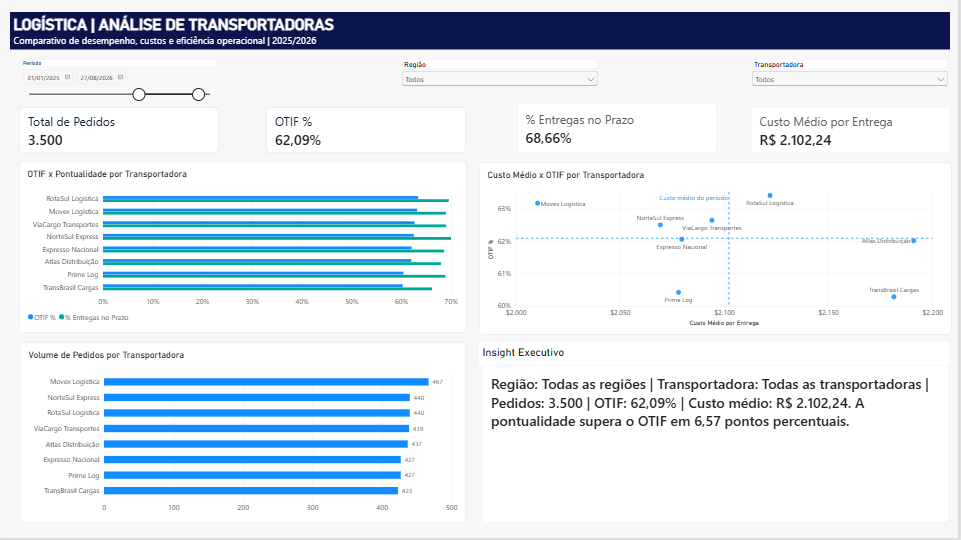

This screenshot's page, from the dashboard's own definition file:
{"tool":"powerbi","page":{"name":"Análise de Transportadoras","canvas":[1920,1080],"ordinal":2},"visuals":[{"type":"textbox","title":"LOGÍSTICA | ANÁLISE DE TRANSPORTADORAS","box":[23.3,28.3,1880,75],"z":0},{"type":"slicer","fields":{"Values":["DimCalendario.Data"]},"box":[42,124,400,84],"z":1000},{"type":"slicer","fields":{"Values":["Clientes.Regiao"]},"box":[804,124,400,60],"z":2000},{"type":"slicer","fields":{"Values":["Transportadoras.Transportadora"]},"box":[1504,124,400,150],"z":3000},{"type":"cardVisual","fields":{"Data":["Pedidos_Entregas.Total de Pedidos"]},"box":[42.5,217.5,400,92.5],"z":4000},{"type":"cardVisual","fields":{"Data":["Pedidos_Entregas.OTIF %"]},"box":[535,217.5,400,92.5],"z":5000},{"type":"cardVisual","fields":{"Data":["Pedidos_Entregas.% Entregas no Prazo"]},"box":[1037.5,210,400,100],"z":6000},{"type":"cardVisual","fields":{"Data":["Pedidos_Entregas.Custo Médio por Entrega Formatado"]},"box":[1505,217.5,400,92.5],"z":7000},{"type":"clusteredBarChart","title":"OTIF x Pontualidade por Transportadora","fields":{"Category":["Transportadoras.Transportadora"],"Y":["Pedidos_Entregas.OTIF %","Pedidos_Entregas.% Entregas no Prazo"]},"box":[41.7,326.7,895,343.3],"z":8000},{"type":"scatterChart","title":"Custo Médio x OTIF por Transportadora","fields":{"Category":["Transportadoras.Transportadora"],"X":["Pedidos_Entregas.Custo Médio por Entrega"],"Y":["Pedidos_Entregas.OTIF %"]},"box":[962.5,327.5,945,345],"z":9000},{"type":"clusteredBarChart","title":"Volume de Pedidos por Transportadora","fields":{"Category":["Transportadoras.Transportadora"],"Y":["Pedidos_Entregas.Total de Pedidos"]},"box":[44,688,892,362],"z":9001},{"type":"cardVisual","title":"Insight Executivo","fields":{"Data":["Pedidos_Entregas.Insight Transportadoras"]},"box":[962,688,940,362],"z":9002}]}

Visuals, with their boxes in screenshot pixels (x1, y1, x2, y2), scaled from the page's 1920x1080 canvas onto the 961x540 screenshot:
"LOGÍSTICA | ANÁLISE DE TRANSPORTADORAS" textbox: x1=12, y1=14, x2=953, y2=52
slicer - DimCalendario.Data: x1=21, y1=62, x2=221, y2=104
slicer - Clientes.Regiao: x1=402, y1=62, x2=603, y2=92
slicer - Transportadoras.Transportadora: x1=753, y1=62, x2=953, y2=137
cardVisual - Pedidos_Entregas.Total de Pedidos: x1=21, y1=109, x2=221, y2=155
cardVisual - Pedidos_Entregas.OTIF %: x1=268, y1=109, x2=468, y2=155
cardVisual - Pedidos_Entregas.% Entregas no Prazo: x1=519, y1=105, x2=719, y2=155
cardVisual - Pedidos_Entregas.Custo Médio por Entrega Formatado: x1=753, y1=109, x2=953, y2=155
"OTIF x Pontualidade por Transportadora" clusteredBarChart: x1=21, y1=163, x2=469, y2=335
"Custo Médio x OTIF por Transportadora" scatterChart: x1=482, y1=164, x2=955, y2=336
"Volume de Pedidos por Transportadora" clusteredBarChart: x1=22, y1=344, x2=468, y2=525
"Insight Executivo" cardVisual: x1=482, y1=344, x2=952, y2=525
